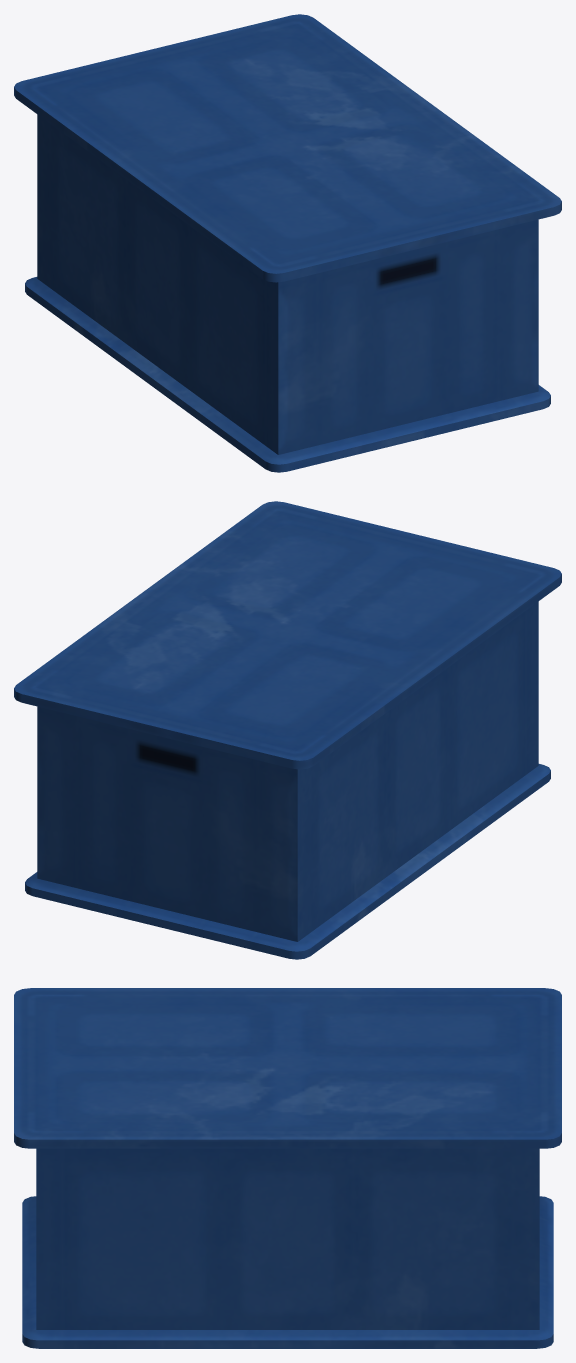
Rendered from MB_Plastic_Box_02.fbx.
3 renders of one model, top to bottom at view 1: azimuth 30°, elevation 25°; view 2: azimuth 150°, elevation 25°; view 3: azimuth 270°, elevation 25°, orthographic. The views are drawn at different scales.
Visible parts, largest first — view 1: MB_Plastic_Box_02_LOD0; view 2: MB_Plastic_Box_02_LOD0; view 3: MB_Plastic_Box_02_LOD0.
Boxes of the visible parts, bbox=[...] form: MB_Plastic_Box_02_LOD0: bbox=[14, 14, 561, 472]; MB_Plastic_Box_02_LOD0: bbox=[14, 501, 561, 959]; MB_Plastic_Box_02_LOD0: bbox=[14, 988, 561, 1348].
Size of what is drawn, in the model's own units: 39.77 by 26 by 60.75.
